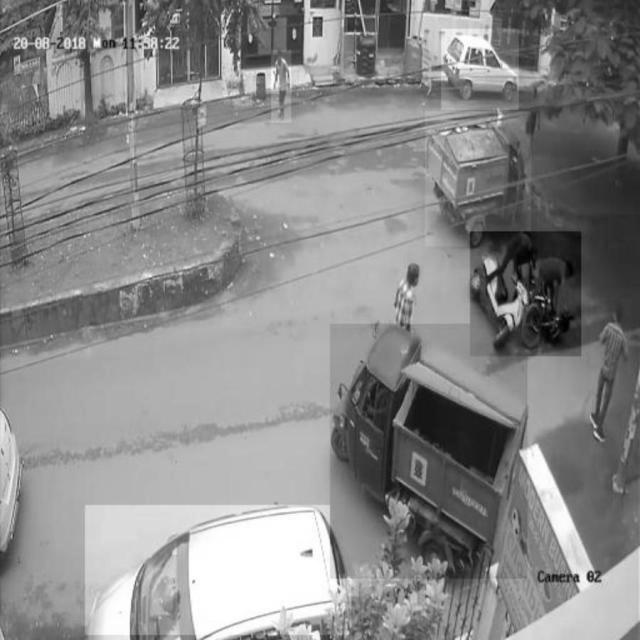accident: (470, 231, 581, 355)
person: (591, 298, 632, 454), (272, 50, 292, 122)
vehicle: (331, 324, 528, 578), (86, 505, 352, 636), (425, 111, 531, 245), (442, 29, 519, 110)
